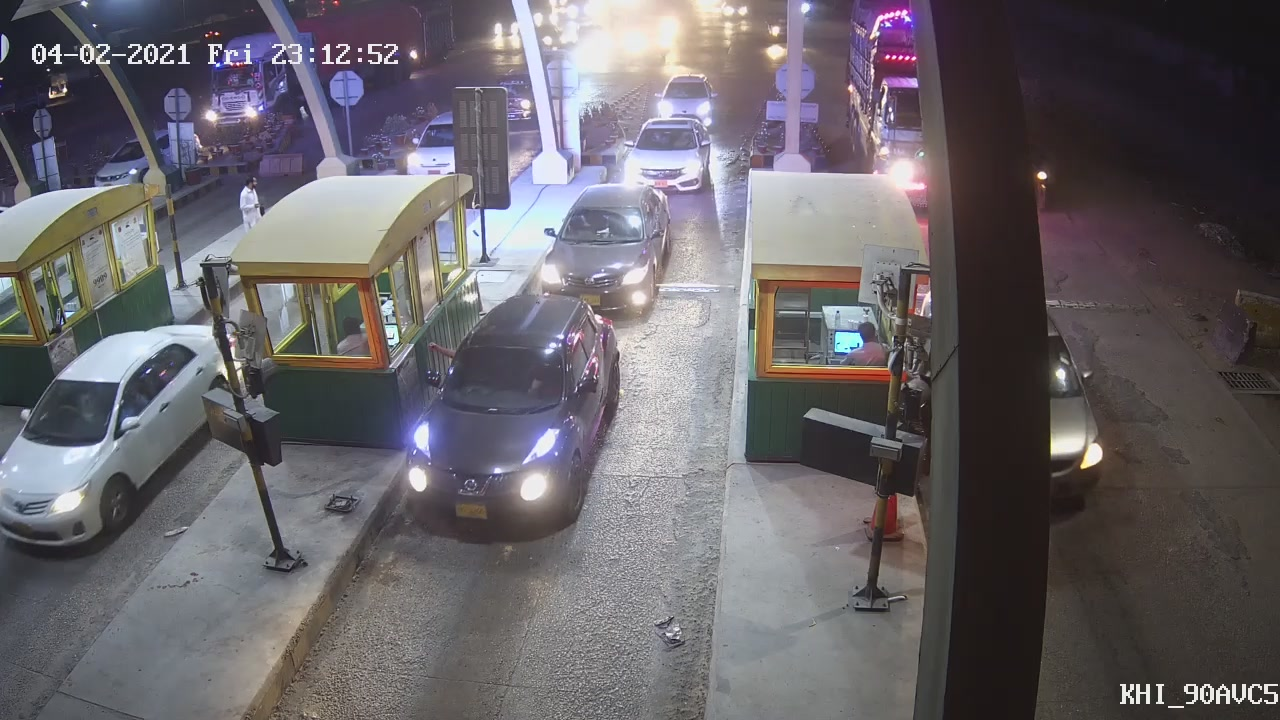F1: (399, 289, 626, 533)
